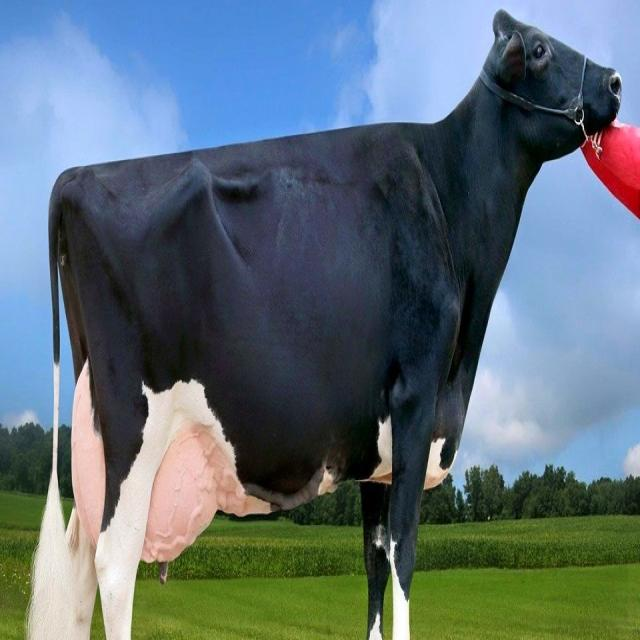cow: (26, 11, 621, 639)
